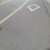zebra: (1, 22, 50, 50)
